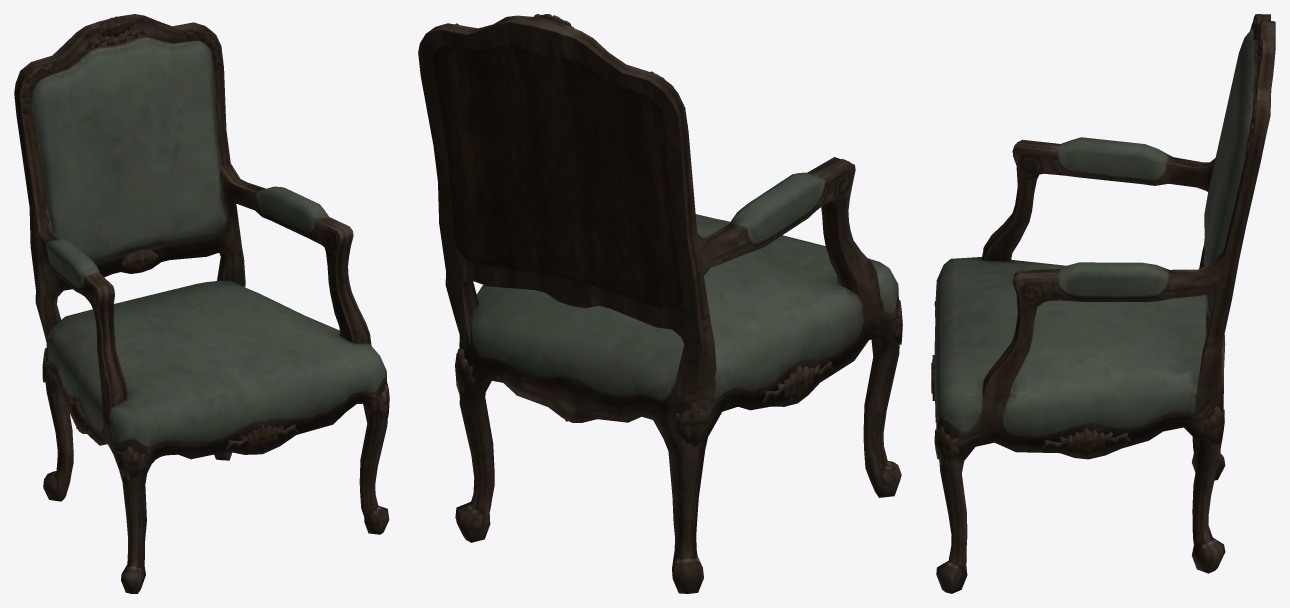
The model's file is deskchair.glb.
The picture shows the model from 3 angles, left to right: view 1: azimuth 30°, elevation 25°; view 2: azimuth 150°, elevation 25°; view 3: azimuth 270°, elevation 25°; orthographic projection. The views are drawn at different scales.
Parts seen in each view (by area): view 1: GreenChair_01; view 2: GreenChair_01; view 3: GreenChair_01.
Part boxes in pixels (x1=…): GreenChair_01: x1=14, y1=14, x2=389, y2=593; GreenChair_01: x1=418, y1=14, x2=902, y2=593; GreenChair_01: x1=931, y1=14, x2=1275, y2=593.
Size of the model in its own units: 0.6732 by 1.06 by 0.6644.
Materials: 1 (1 with a texture image).
